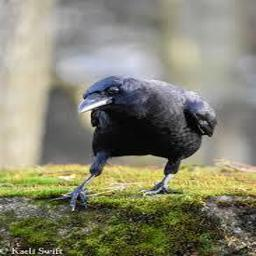Crow: (54, 76, 219, 211)
